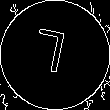L_S: (35, 27, 75, 83)
